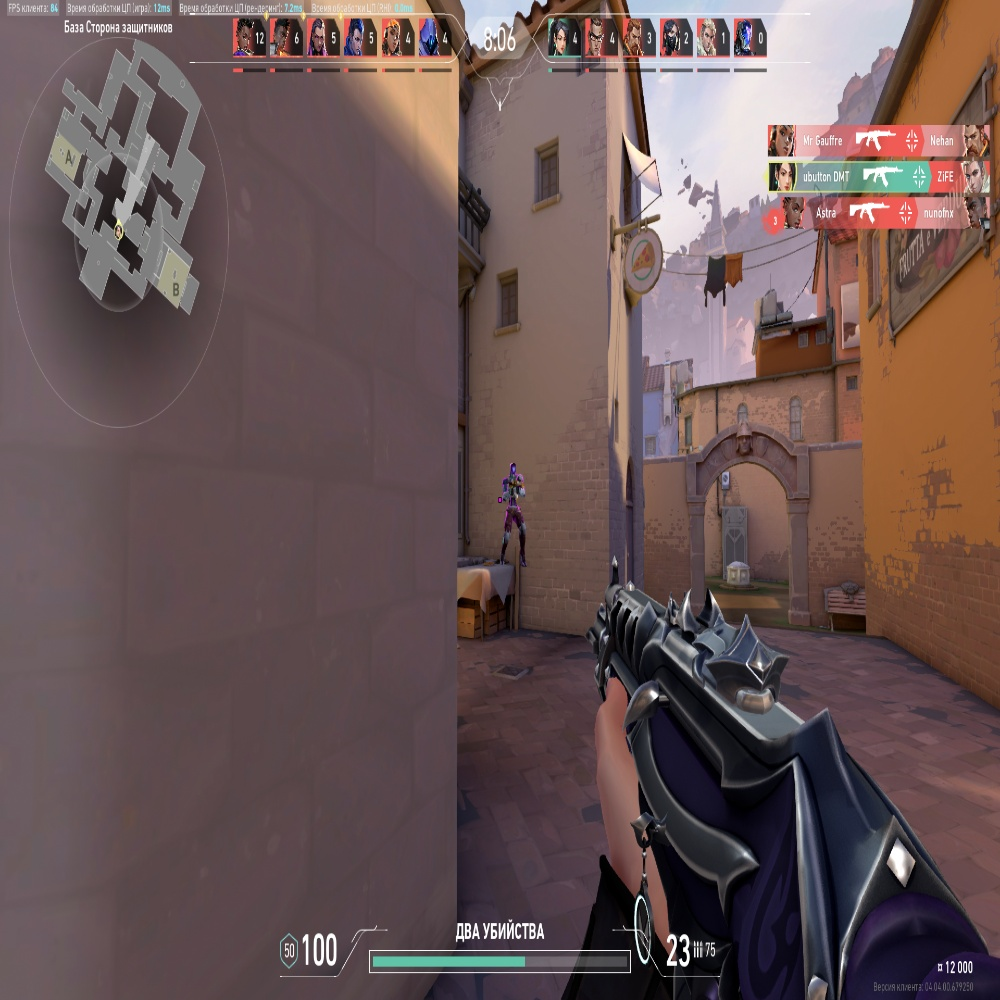body: (505, 479, 522, 510)
head: (510, 463, 517, 478)
